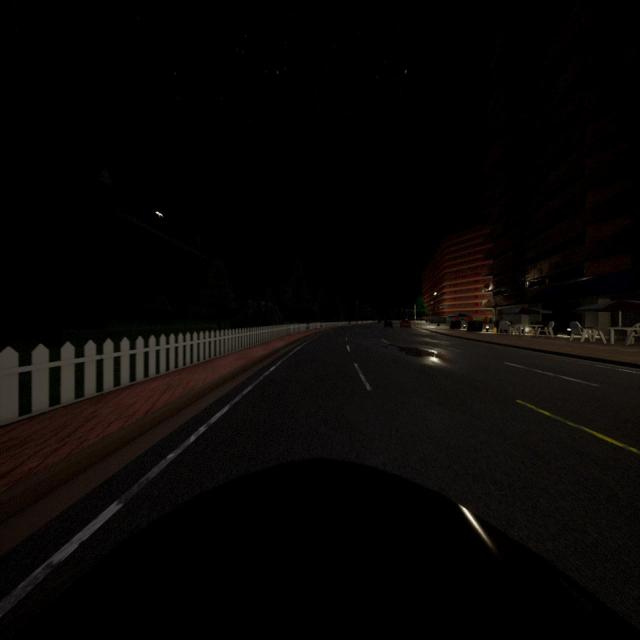Vehicle: (0, 461, 640, 640), (399, 319, 412, 329), (384, 319, 394, 328)
